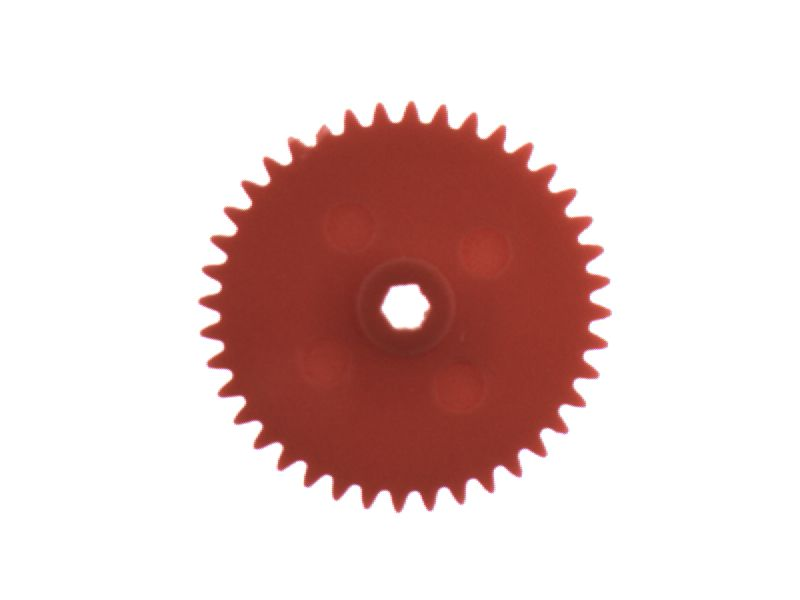defect_break: (300, 111, 348, 158)
